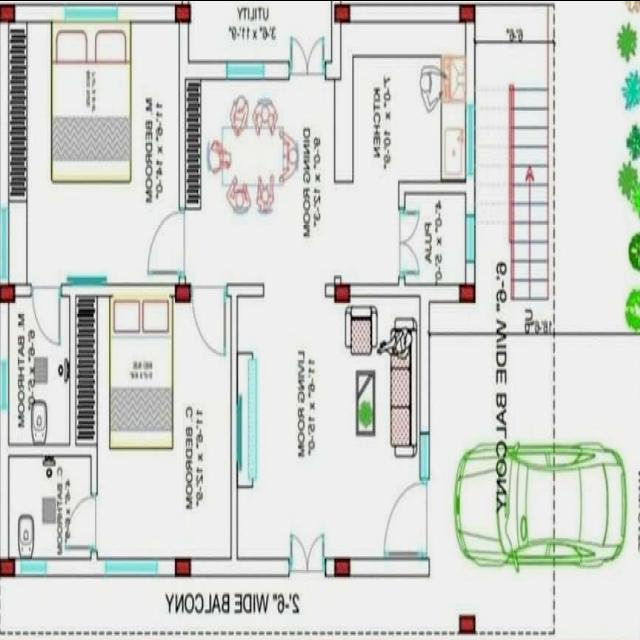Blueprint: (0, 0, 489, 640)
column: (172, 279, 196, 305), (332, 552, 354, 580), (456, 610, 478, 636), (172, 552, 192, 580), (172, 0, 192, 28), (332, 278, 352, 306), (456, 0, 478, 25), (458, 280, 478, 306), (0, 0, 18, 28), (0, 277, 18, 305), (332, 0, 352, 25), (0, 552, 17, 580)
wall: (348, 0, 461, 26), (347, 280, 461, 304), (229, 290, 239, 562), (188, 554, 292, 580), (178, 20, 190, 215), (58, 280, 176, 298), (0, 18, 10, 210), (418, 290, 431, 436), (348, 556, 432, 578), (6, 440, 99, 459), (394, 174, 466, 198), (45, 553, 107, 579), (0, 402, 10, 560), (68, 293, 77, 449), (115, 2, 177, 24), (12, 0, 66, 24), (463, 17, 477, 107), (185, 56, 228, 82), (330, 0, 342, 85), (225, 280, 265, 300), (263, 56, 291, 82), (0, 299, 10, 363), (463, 169, 476, 218), (154, 553, 178, 579), (88, 452, 98, 498), (324, 60, 341, 80), (13, 281, 33, 297), (323, 556, 335, 578)
